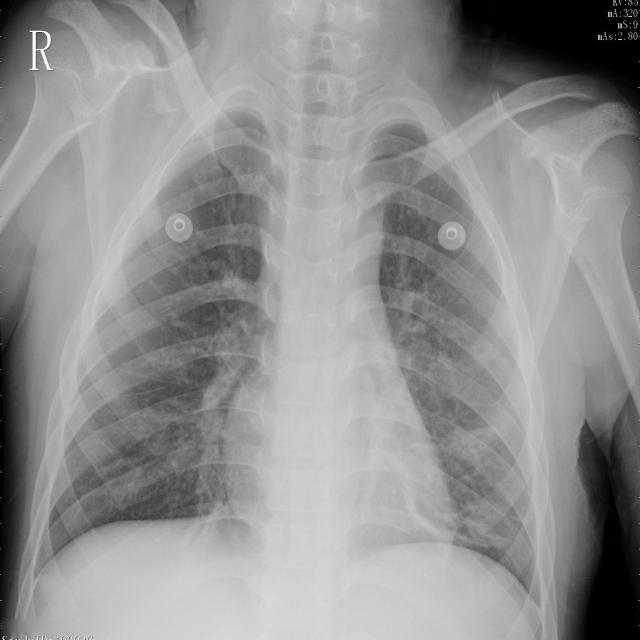low-pneumonia: (196, 307, 252, 471), (390, 283, 444, 441)
